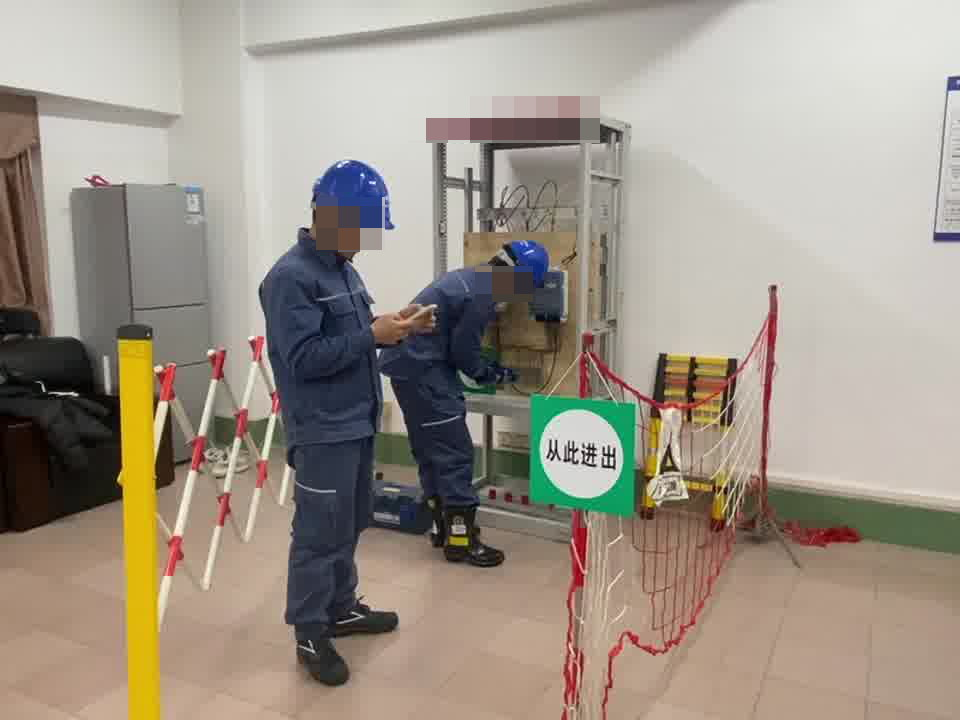downsuit: (282, 445, 379, 630), (388, 353, 481, 516)
halt: (306, 159, 395, 254), (495, 239, 552, 290)
hand: (367, 303, 438, 349)
inear: (316, 203, 351, 250), (499, 260, 526, 291)
intosign: (523, 392, 642, 522)
person: (255, 152, 394, 678), (387, 233, 554, 571)
shoe: (439, 507, 504, 568)
upsuit: (258, 237, 385, 437), (383, 266, 505, 395)
